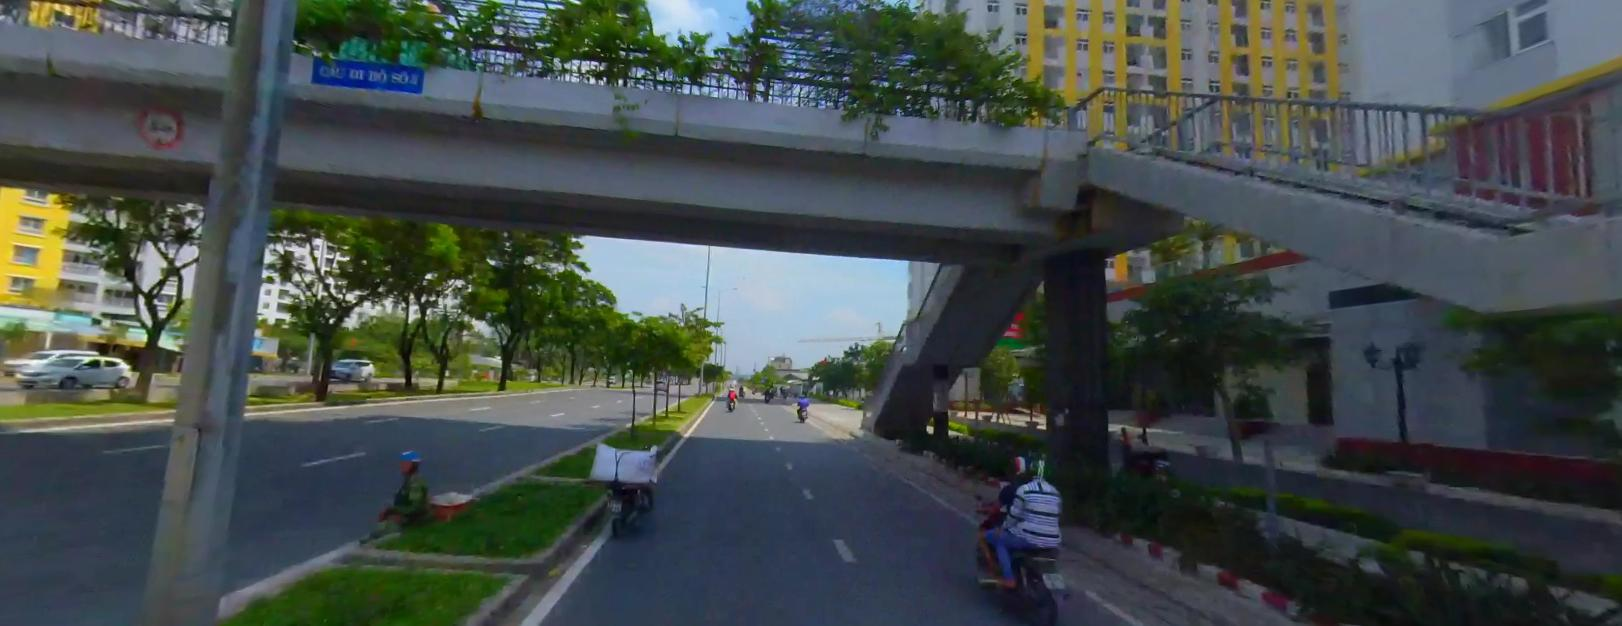Cam con lai: (136, 102, 184, 148)
